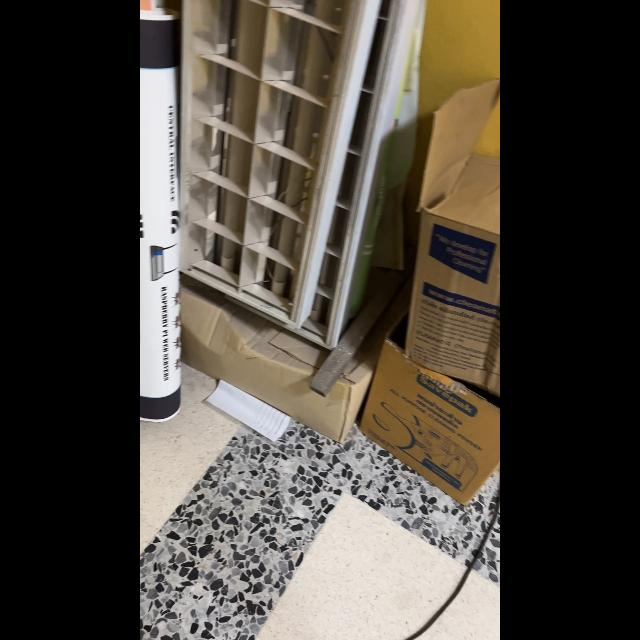cardboard_box: (398, 76, 500, 398), (174, 287, 378, 443), (358, 318, 499, 506)
